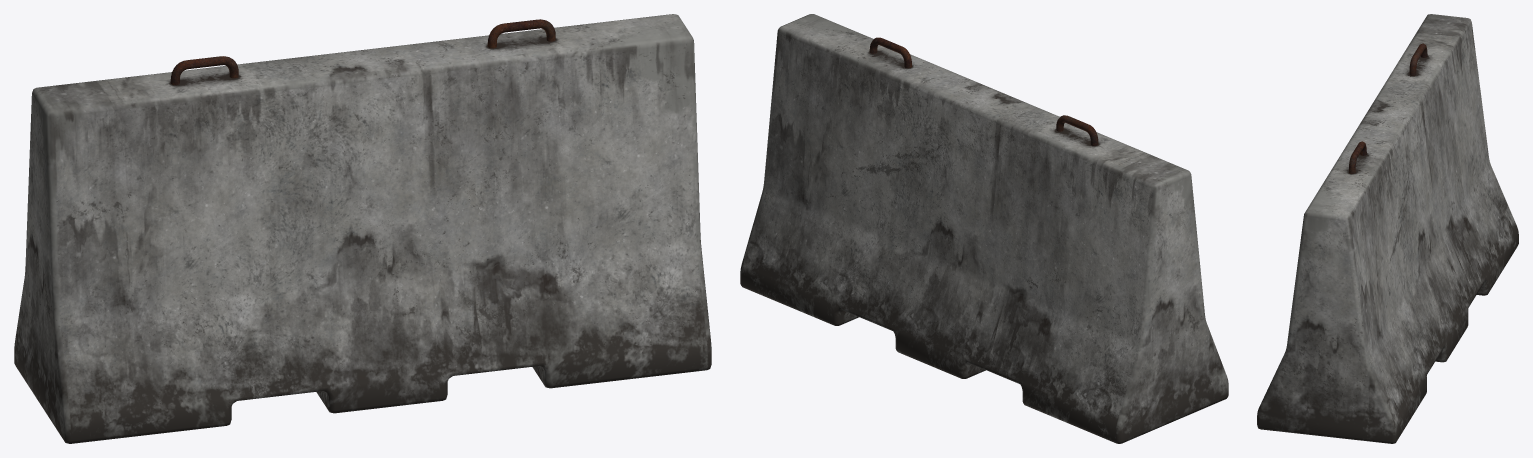
The model's file is street_concrete_barrier.fbx.
The picture shows the model from 3 angles, left to right: view 1: azimuth 30°, elevation 25°; view 2: azimuth 150°, elevation 25°; view 3: azimuth 270°, elevation 25°; orthographic projection. The views are drawn at different scales.
Visible parts, largest first — view 1: street_concrete_barrier; view 2: street_concrete_barrier; view 3: street_concrete_barrier.
Boxes of the visible parts, x1,y1,x2,y2 form: street_concrete_barrier: (14, 14, 711, 443); street_concrete_barrier: (740, 14, 1228, 443); street_concrete_barrier: (1257, 14, 1518, 443).
Bounding box in the file's own units: 3.74 × 1.94 × 1.93.
Materials: 2 (2 with a texture image).
